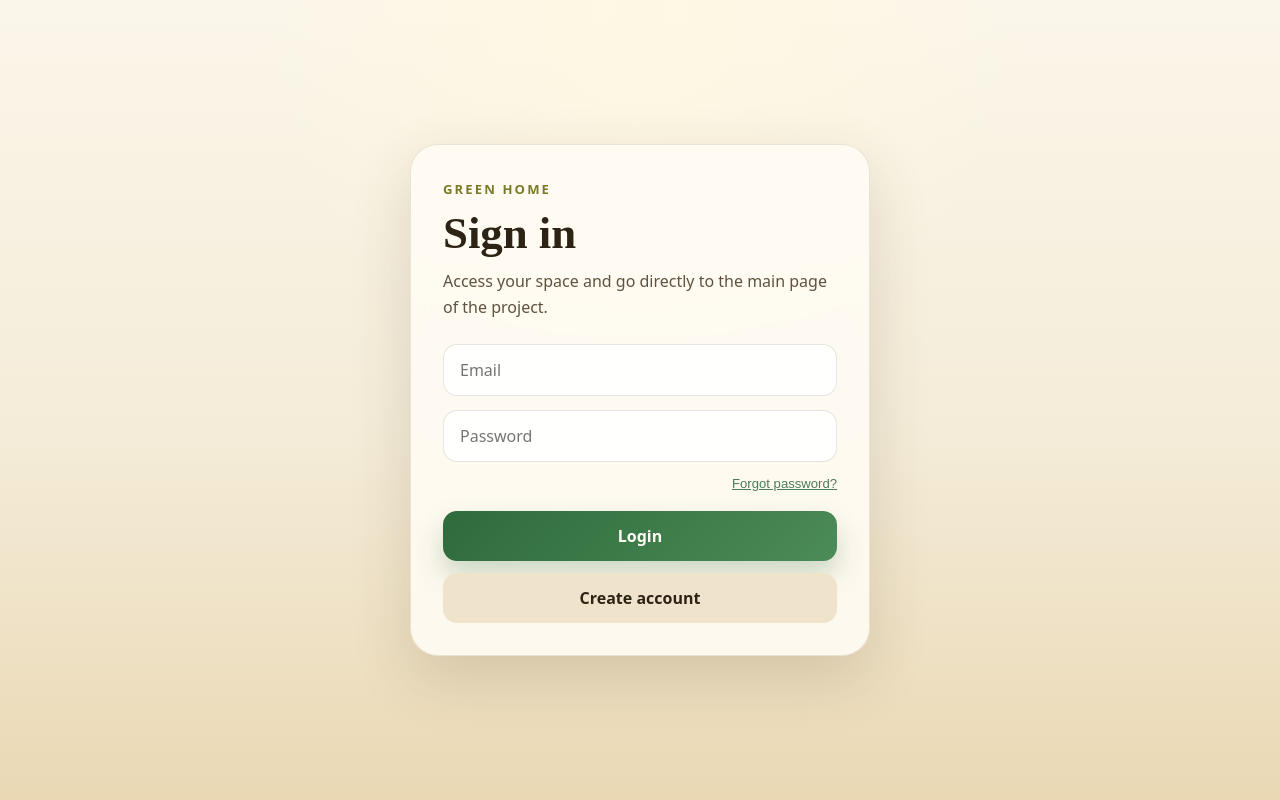
Test case: Login › shows connection error when fetch throws
This screenshot has width=1280, height=800.
Click the button "Login" at [640, 536], box [443,511,837,561]
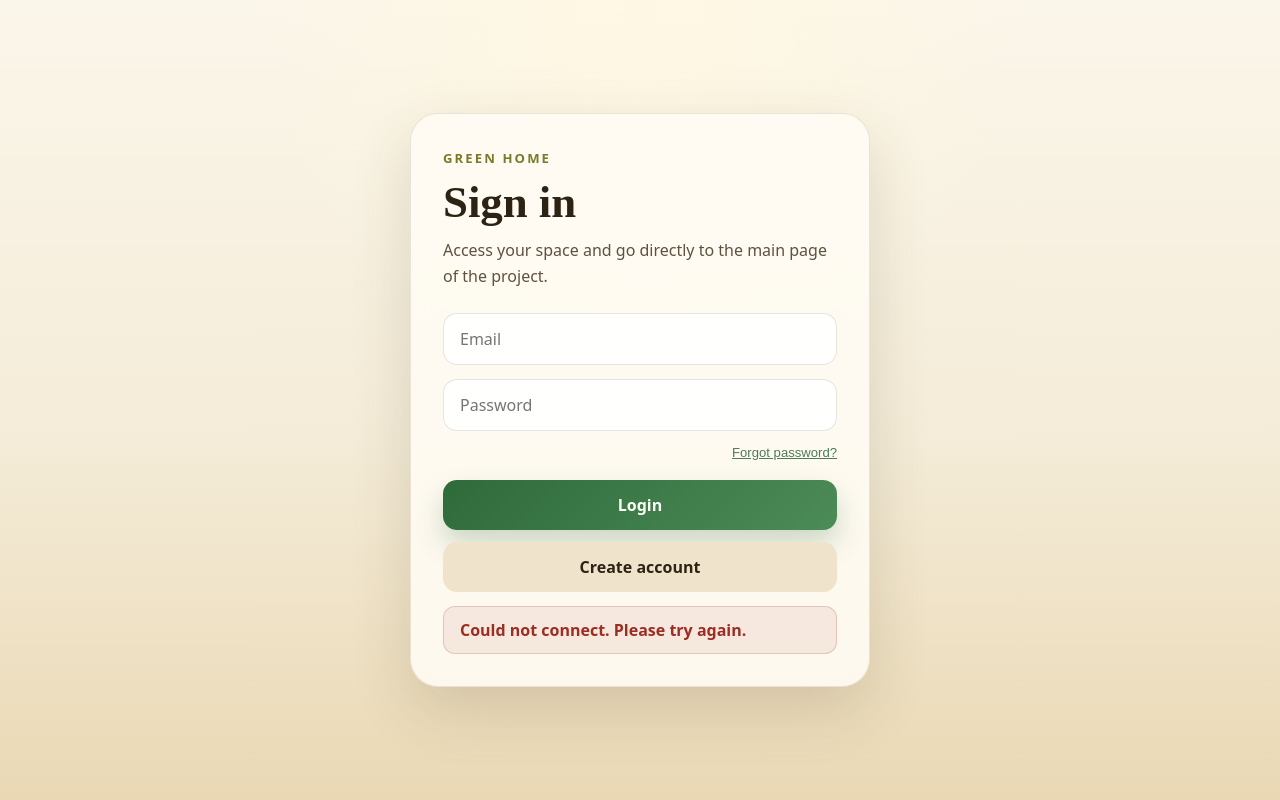
Expected: the text "Could not connect. Please try again." is shown, [443,606,837,654]
